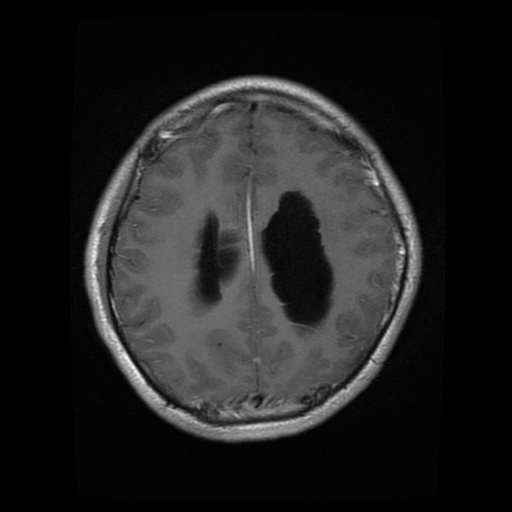glioma: (261, 194, 336, 326)
